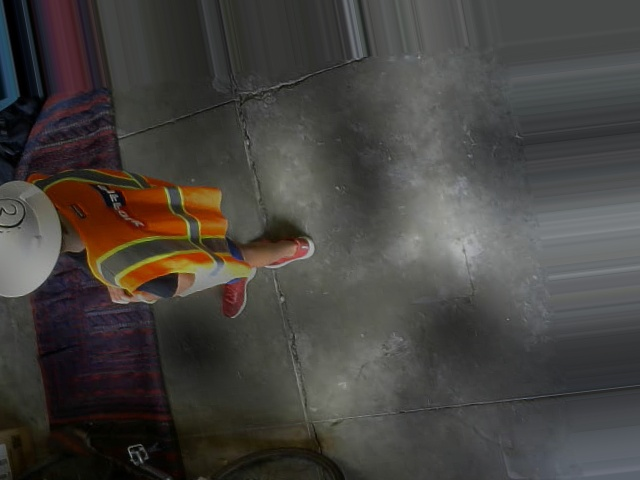three: (0, 195, 28, 230)
